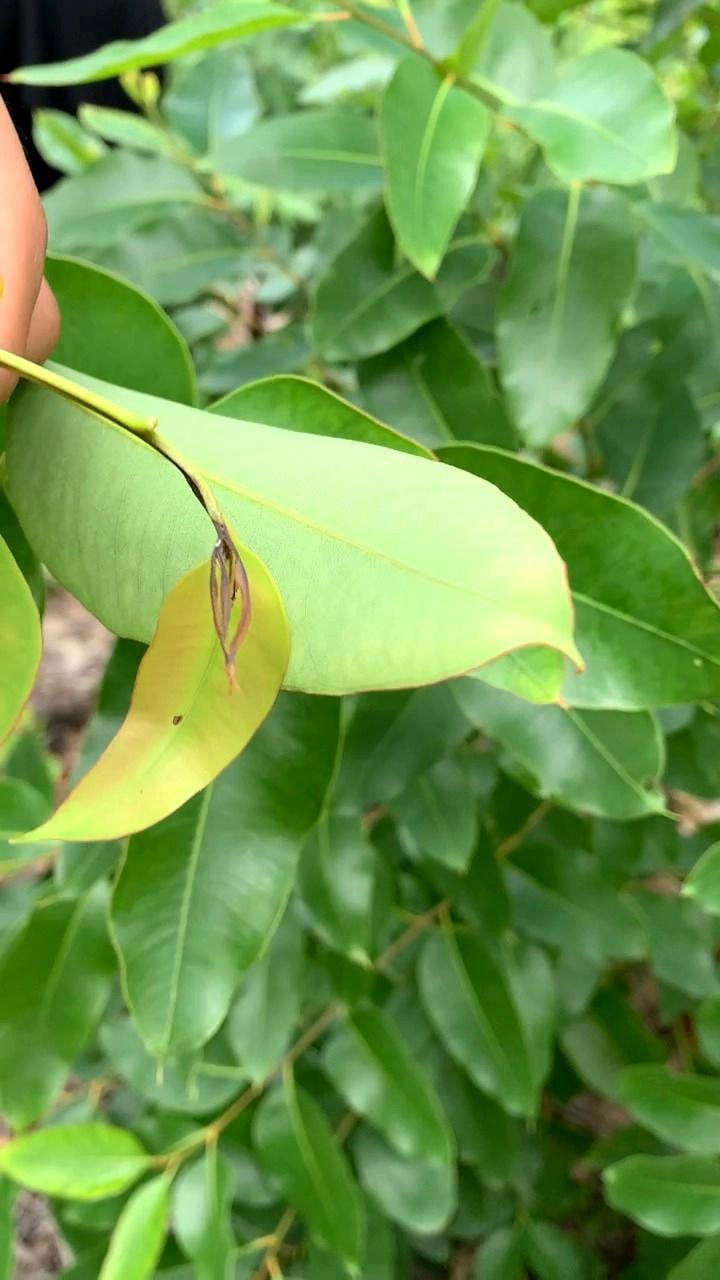Helopeltis-Withered Sprout: (208, 528, 253, 691)
